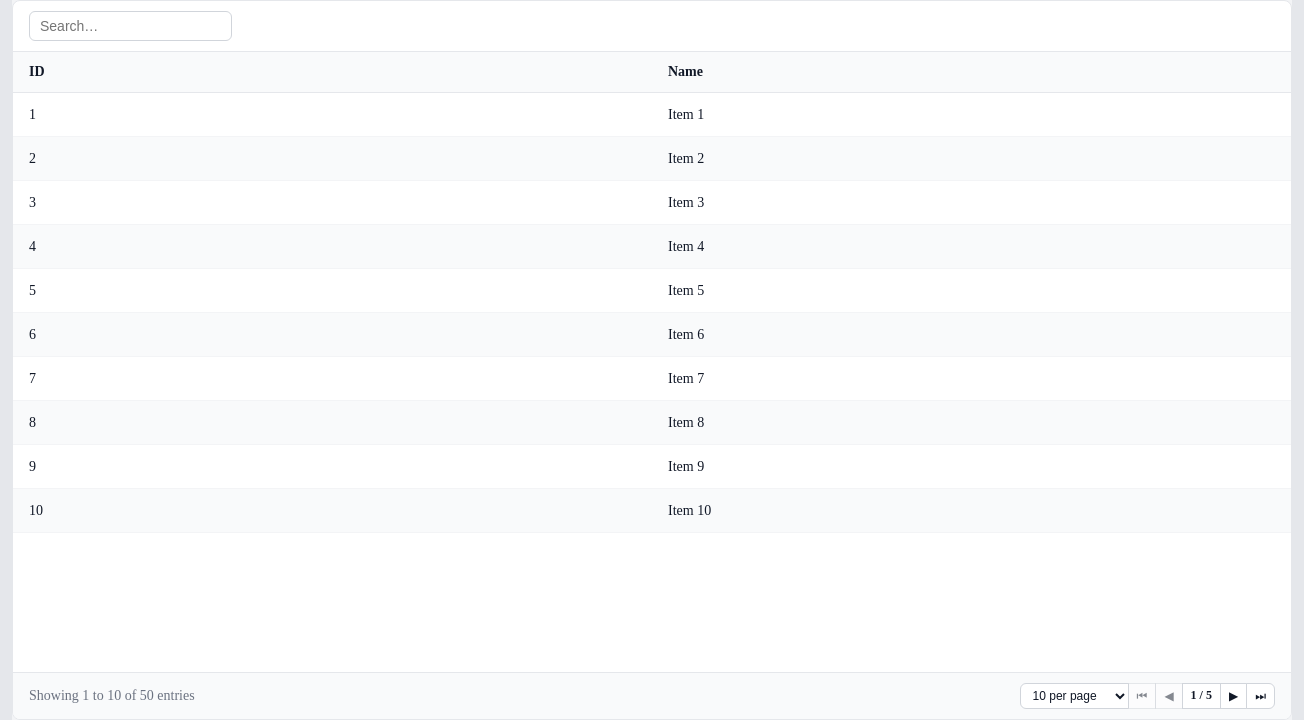
it: DataTable Virtualized Component › quick filter (issue #317) › clearing the filter shows every row again
Type "item 42" into the search field at (130, 26), box x1=29 y1=11 x2=232 y2=41
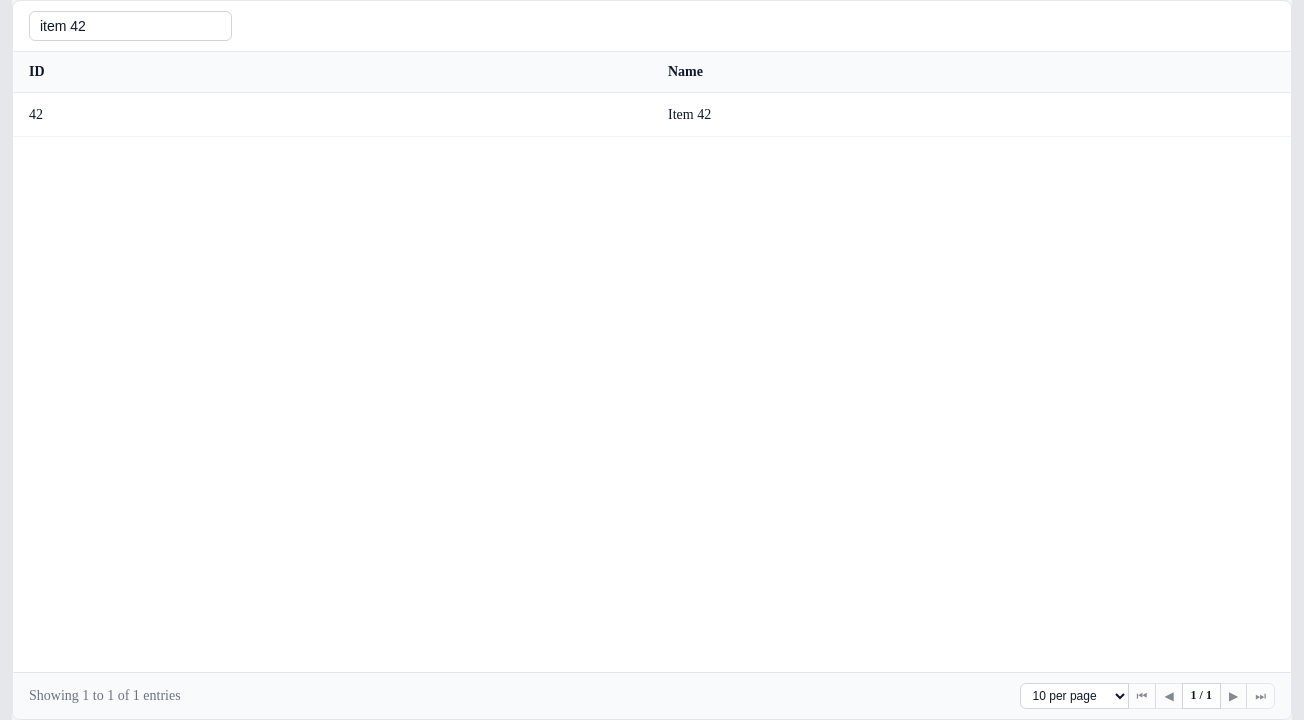
Expected: the text "Item 1" is gone
Clear the search field at (130, 26), box x1=29 y1=11 x2=232 y2=41
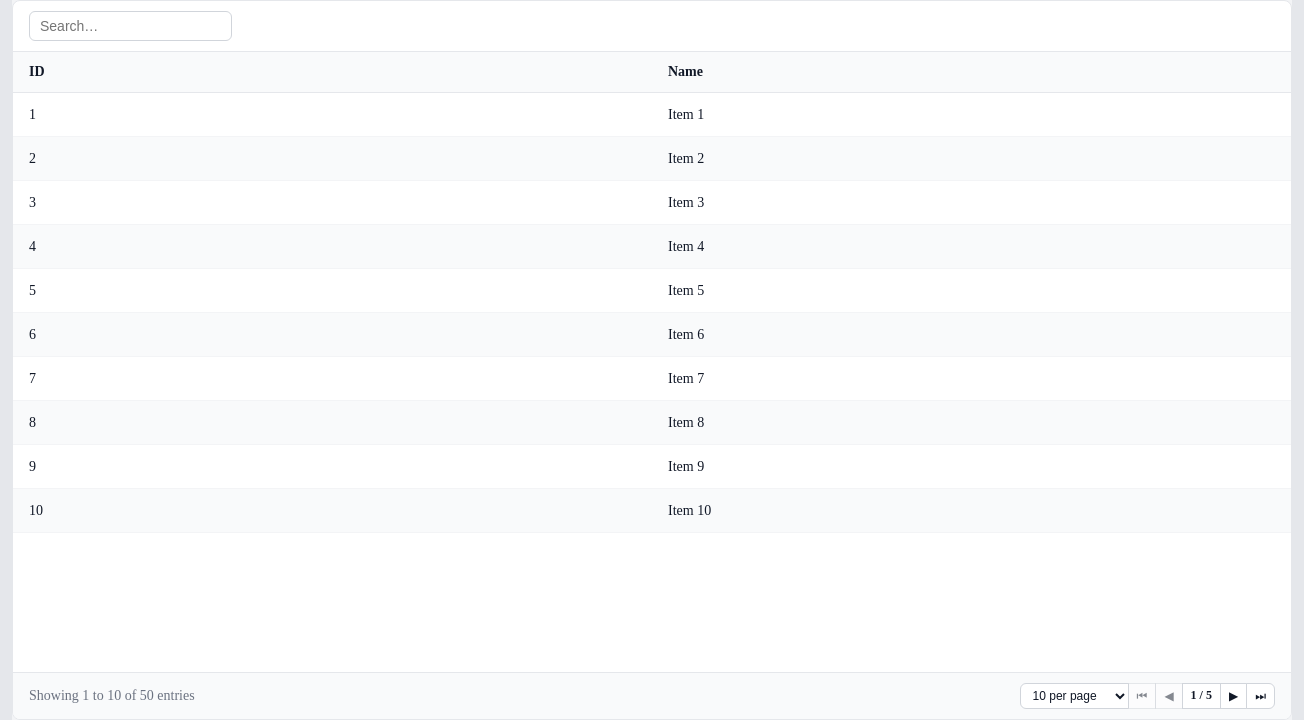
Expected: the text "Item 1" is shown, x1=652 y1=92 x2=1291 y2=136
Expected: the text "Showing 1 to 10 of 50 entries" is shown, x1=29 y1=688 x2=195 y2=704
